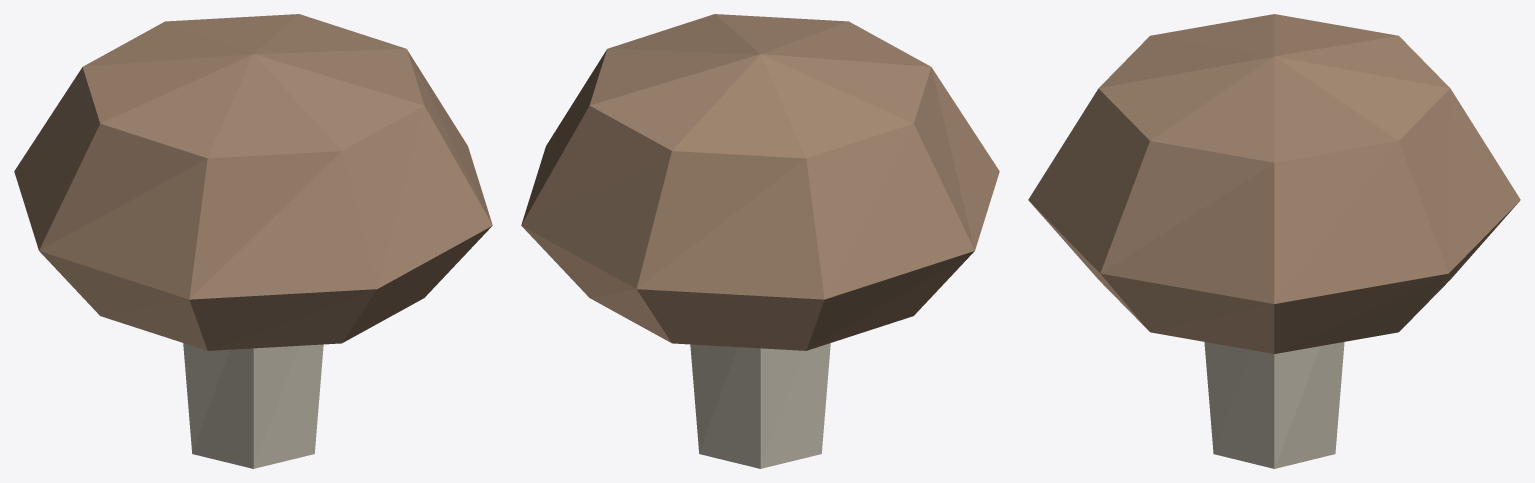
Rendered from mushroom.glb.
The picture shows the model from 3 angles, left to right: view 1: azimuth 30°, elevation 25°; view 2: azimuth 150°, elevation 25°; view 3: azimuth 270°, elevation 25°; orthographic projection.
Parts seen in each view (by area): view 1: mushroom; view 2: mushroom; view 3: mushroom.
Part boxes in pixels (left/top/right/bottom): mushroom: left=14, top=14, right=492, bottom=468; mushroom: left=521, top=14, right=999, bottom=468; mushroom: left=1028, top=14, right=1520, bottom=468.
Bounding box in the file's own units: 0.14 × 0.12 × 0.14.
